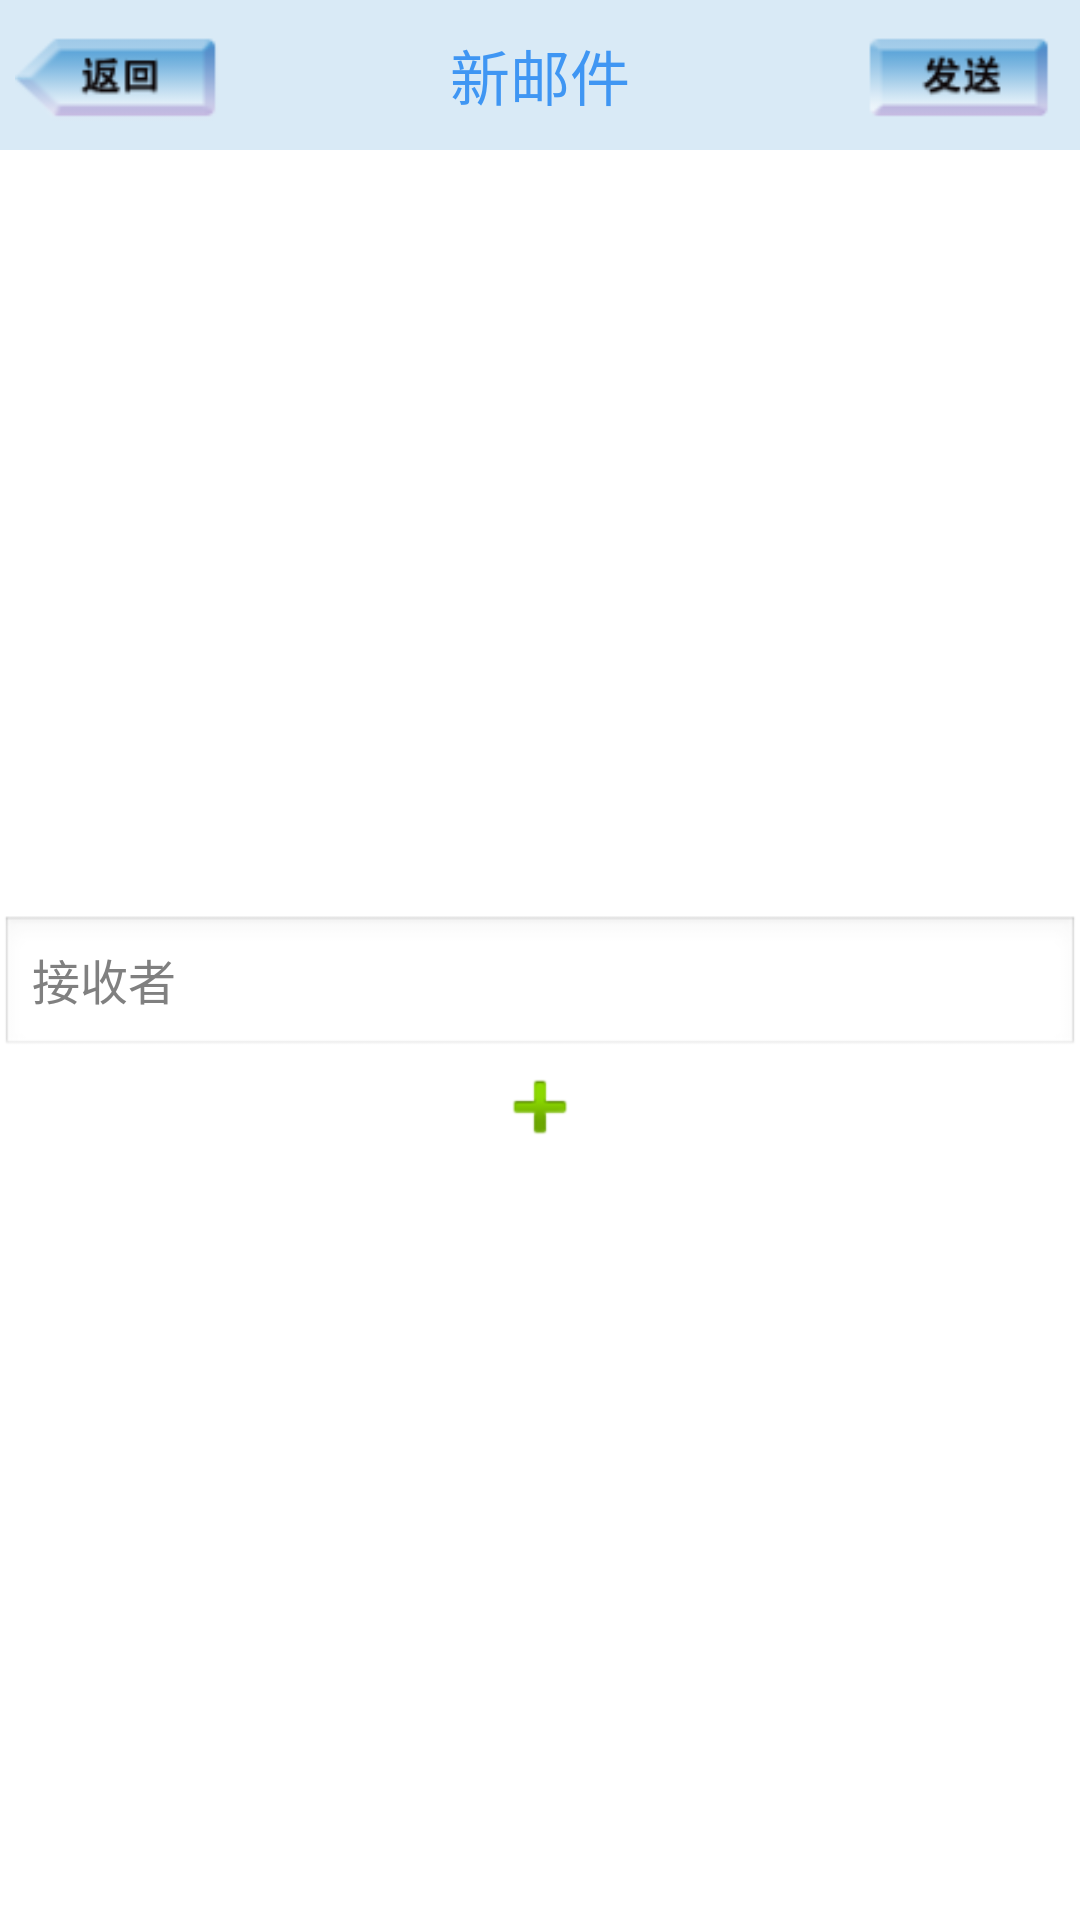

Locate icon controls on the screen. Image size 1080*1920, boxes as (x1, y1, x2, y2).
add: (513, 1080, 567, 1134)
